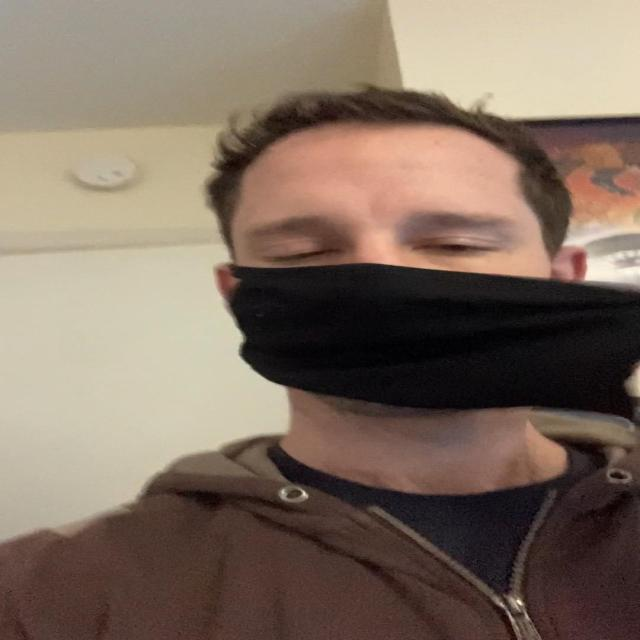no-helmet: (203, 127, 619, 436)
